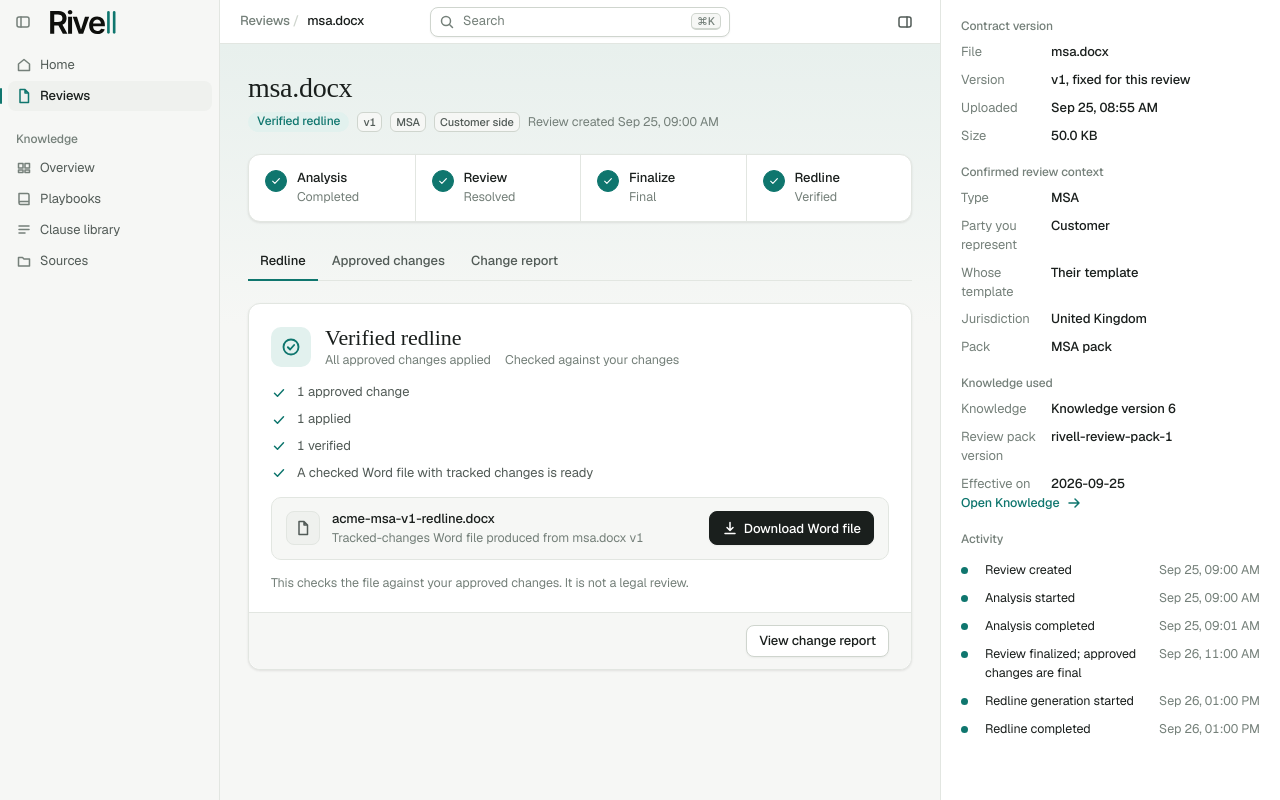
Test case: finalized: the frozen change set and the redline › verified redline: a download that fails is reported and leaves the result intact
Click the button "Download Word file": click(791, 528) top-left (709, 511), bottom-right (874, 545)
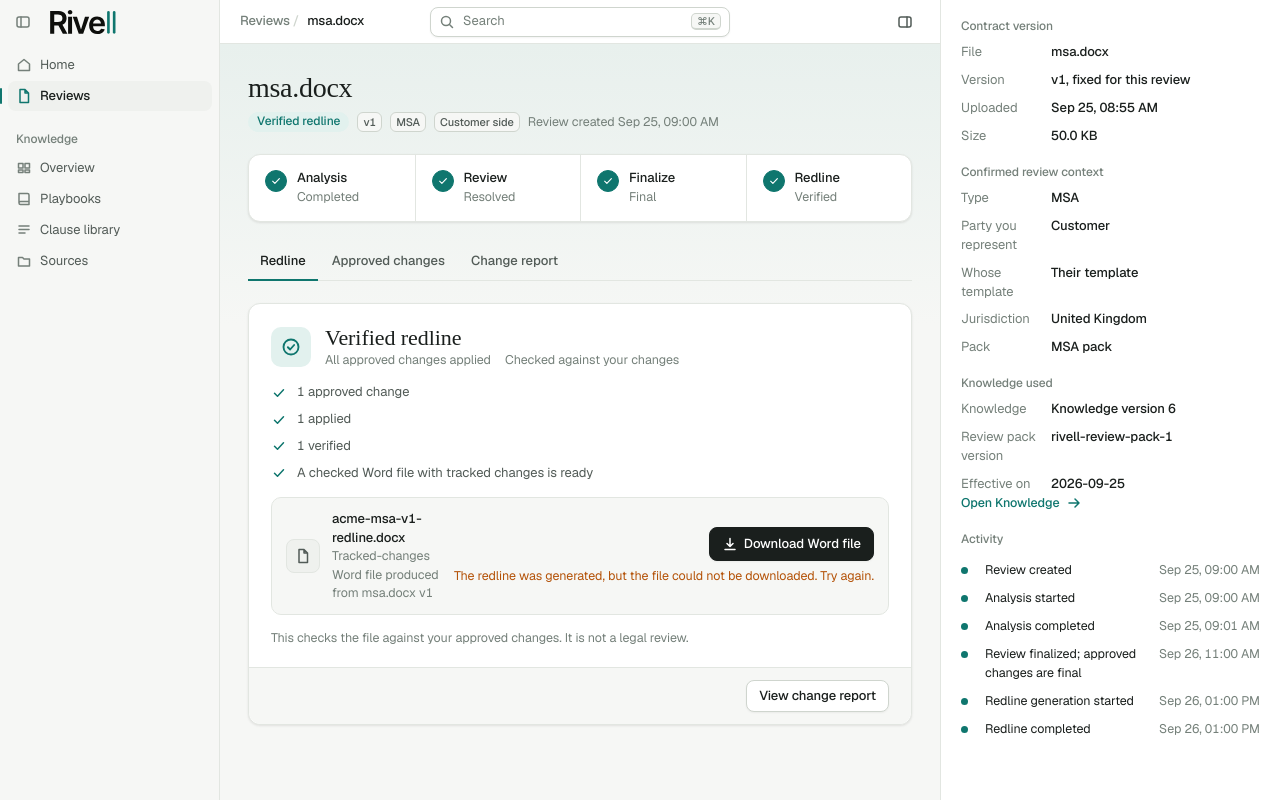
Expected: the heading "Verified redline" is shown, top-left (325, 325), bottom-right (461, 350)
Now the message shows "could not be downloaded", box top-left (454, 567), bottom-right (874, 584)
